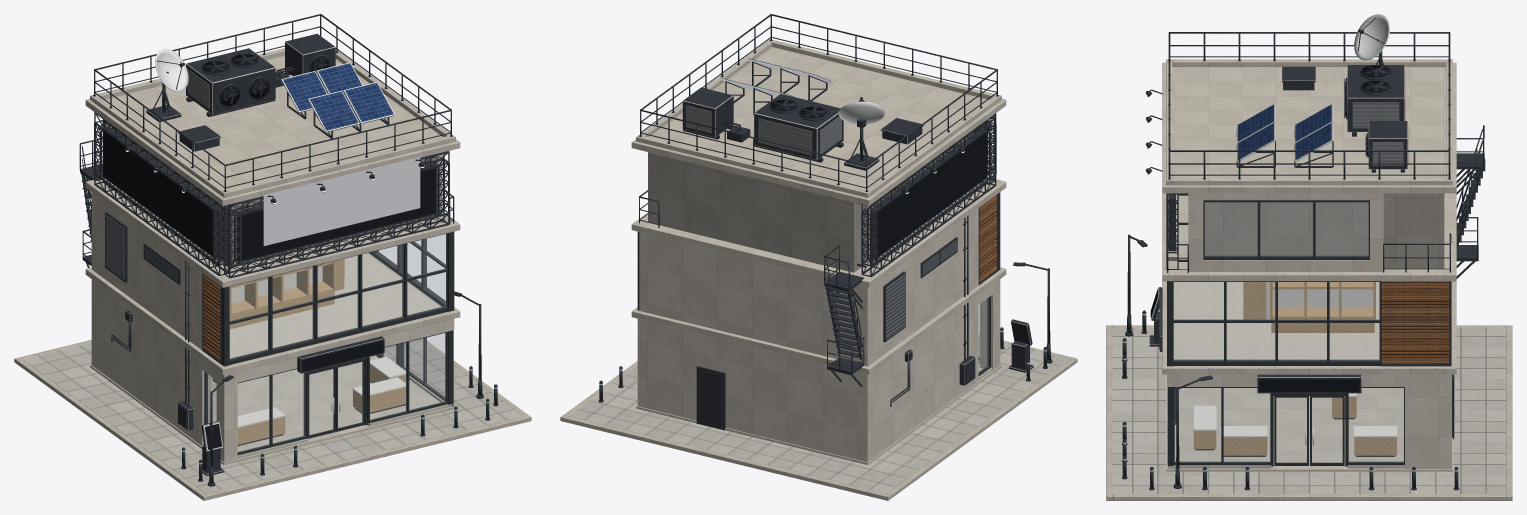
The model's file is shop_glass_corner_3story.glb.
3 renders of one model, left to right at view 1: azimuth 30°, elevation 25°; view 2: azimuth 150°, elevation 25°; view 3: azimuth 270°, elevation 25°, orthographic. The views are drawn at different scales.
Visible parts, largest first — view 1: shop_glass_corner_3story, rooftop_billboard_face; view 2: shop_glass_corner_3story; view 3: shop_glass_corner_3story.
Part boxes in pixels (box(x1,y1,x2,y2)): shop_glass_corner_3story: box(14, 14, 531, 500); rooftop_billboard_face: box(263, 157, 420, 245); shop_glass_corner_3story: box(560, 14, 1077, 500); shop_glass_corner_3story: box(1106, 14, 1512, 500).
Size of the model in its own units: 13.4 by 13.07 by 13.4.
22 materials, 14 textured.
